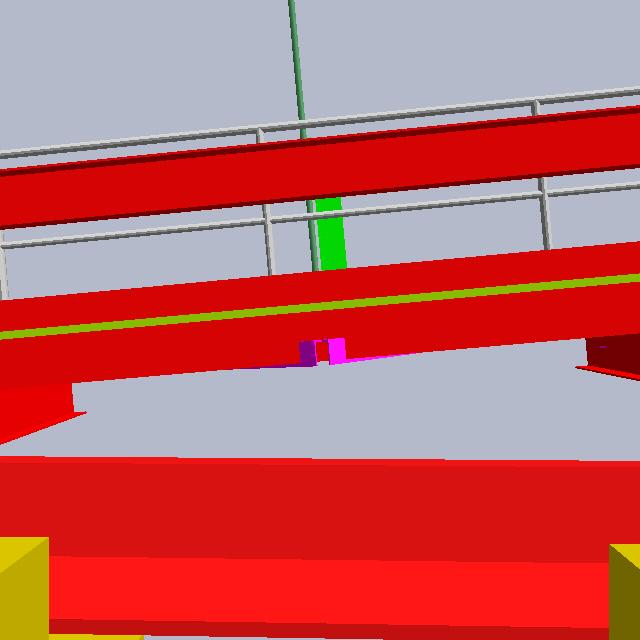Poste: (273, 1, 322, 284)
Soporte: (307, 178, 355, 355)
